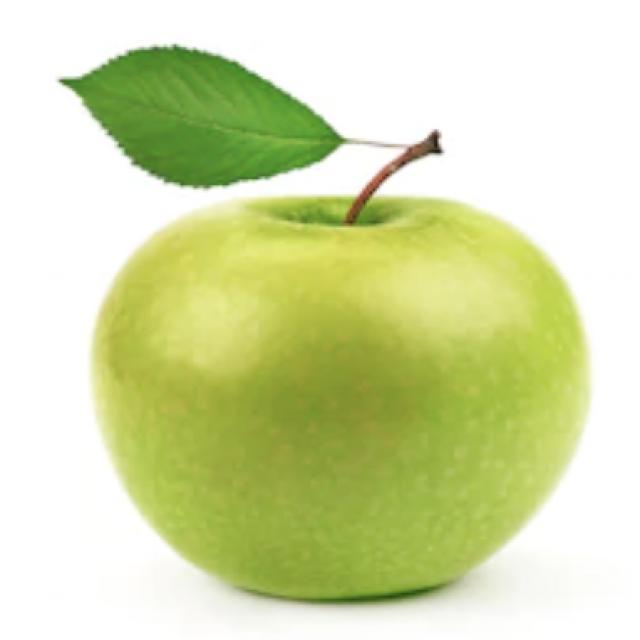Fresh Apple: (93, 180, 587, 603)
